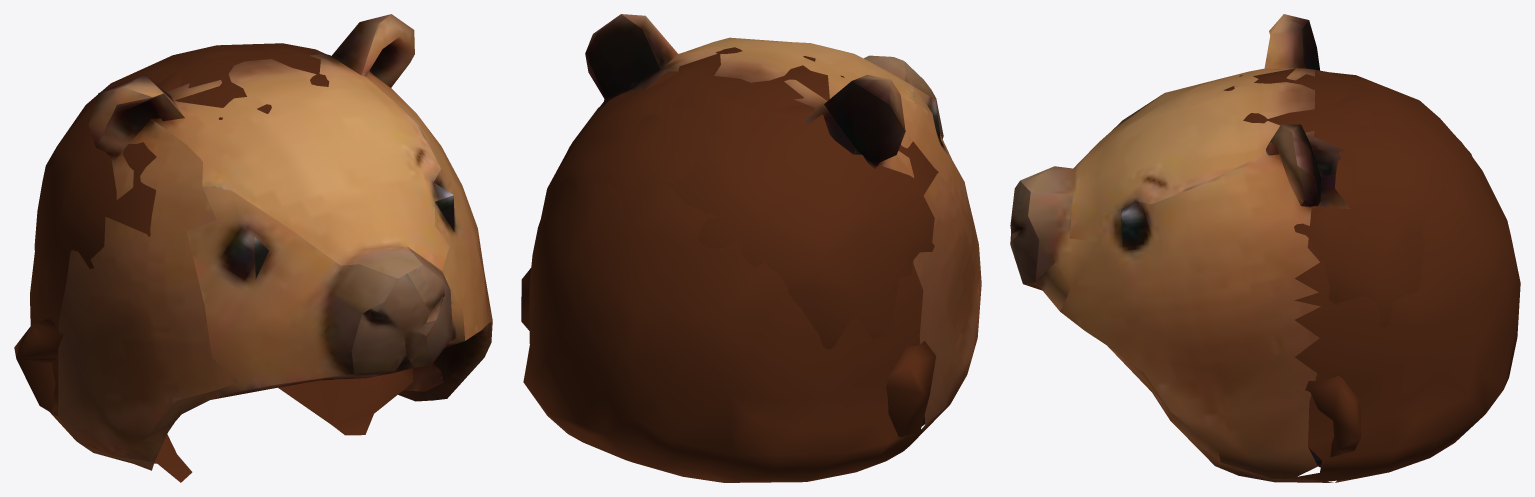
File: capybara.glb
3 renders of one model, left to right at view 1: azimuth 30°, elevation 25°; view 2: azimuth 150°, elevation 25°; view 3: azimuth 270°, elevation 25°, orthographic. The views are drawn at different scales.
Parts seen in each view (by area): view 1: geometry_0, HoodAnatomicalLining; view 2: geometry_0, HoodAnatomicalLining; view 3: geometry_0, HoodAnatomicalLining.
Boxes of the visible parts, x1,y1,x2,y2 form: geometry_0: (30, 14, 492, 470); HoodAnatomicalLining: (14, 43, 412, 482); geometry_0: (523, 14, 981, 482); HoodAnatomicalLining: (521, 47, 938, 437); geometry_0: (1010, 14, 1520, 482); HoodAnatomicalLining: (1223, 68, 1472, 467).
Bounding box in the file's own units: 0.4603 × 0.4261 × 0.5372.
2 materials, 1 textured.
